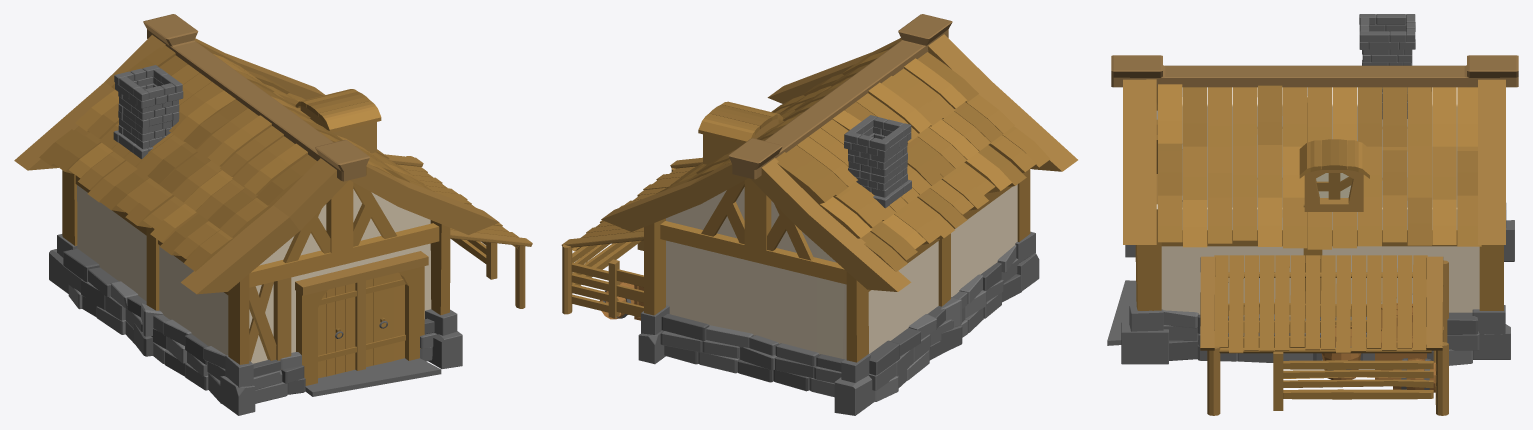
Rendered from Sclad1.fbx.
3 views of the same model, side by side, from view 1: azimuth 30°, elevation 25°; view 2: azimuth 150°, elevation 25°; view 3: azimuth 270°, elevation 25° (orthographic). The views are drawn at different scales.
Parts seen in each view (by area): view 1: Cube.031, Cube.030, Cube.008, Cube.005, Cube.051, Cube.029, Cube.006, Cube.095, Cube.037, Plane.001, Cube.020, Cube.139 (+15 smaller); view 2: Cube.031, Plane.001, Cube.030, Cube.005, Cube.008, Cube.022, Cube.051, Cube.029, Cube.006, Cube.095, Cube.028, Cube.034 (+11 smaller); view 3: Cube.031, Cube.017, Cube.030, Cube.029, Cube.008, Cube.005, Cube.015, Cube.051, Cube.007, Cube.095, Circle.001, Cube.032 (+11 smaller).
Part boxes in pixels (left/top/right/bottom): Cube.031: left=39, top=46, right=434, bottom=271; Cube.030: left=14, top=35, right=499, bottom=294; Cube.008: left=77, top=185, right=228, bottom=355; Cube.005: left=49, top=170, right=462, bottom=415; Cube.051: left=62, top=248, right=226, bottom=403; Cube.029: left=143, top=14, right=369, bottom=181; Cube.006: left=249, top=180, right=439, bottom=287; Cube.095: left=113, top=65, right=183, bottom=159; Cube.037: left=326, top=273, right=393, bottom=376; Plane.001: left=249, top=189, right=431, bottom=363; Cube.020: left=296, top=266, right=424, bottom=385; Cube.139: left=305, top=358, right=441, bottom=396; Cube.031: left=656, top=50, right=1050, bottom=271; Plane.001: left=666, top=187, right=846, bottom=359; Cube.030: left=601, top=34, right=1077, bottom=291; Cube.005: left=638, top=169, right=1039, bottom=415; Cube.008: left=868, top=184, right=1017, bottom=353; Cube.022: left=660, top=313, right=844, bottom=397; Cube.051: left=868, top=245, right=1021, bottom=401; Cube.029: left=728, top=14, right=952, bottom=179; Cube.006: left=660, top=178, right=846, bottom=284; Cube.095: left=844, top=115, right=911, bottom=208; Cube.028: left=701, top=180, right=813, bottom=260; Cube.034: left=698, top=101, right=782, bottom=143; Cube.031: left=1158, top=84, right=1481, bottom=249; Cube.017: left=1214, top=255, right=1427, bottom=353; Cube.030: left=1123, top=79, right=1505, bottom=244; Cube.029: left=1111, top=55, right=1518, bottom=87; Cube.008: left=1156, top=104, right=1479, bottom=316; Cube.005: left=1121, top=203, right=1514, bottom=364; Cube.015: left=1283, top=360, right=1433, bottom=399; Cube.051: left=1163, top=310, right=1479, bottom=365; Cube.007: left=1200, top=256, right=1443, bottom=350; Cube.095: left=1359, top=14, right=1415, bottom=119; Circle.001: left=1207, top=260, right=1448, bottom=415; Cube.032: left=1304, top=145, right=1363, bottom=211.
Bounding box in the file's own units: 530 × 325 × 491.
